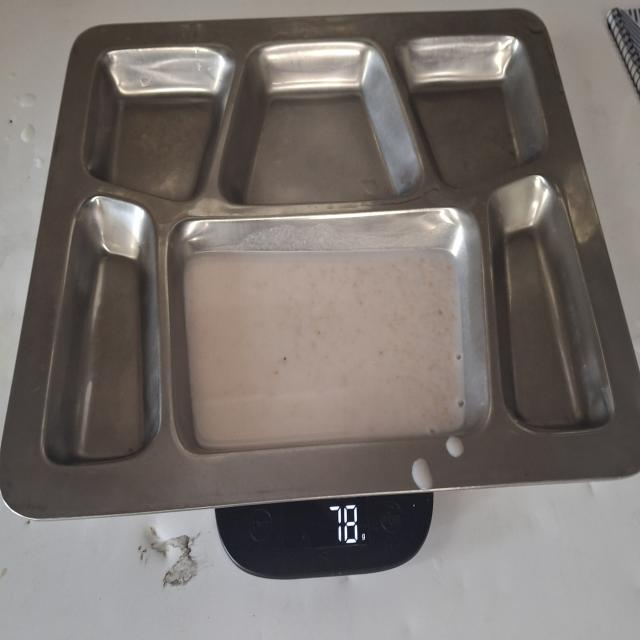Porridge: (177, 238, 475, 450)
